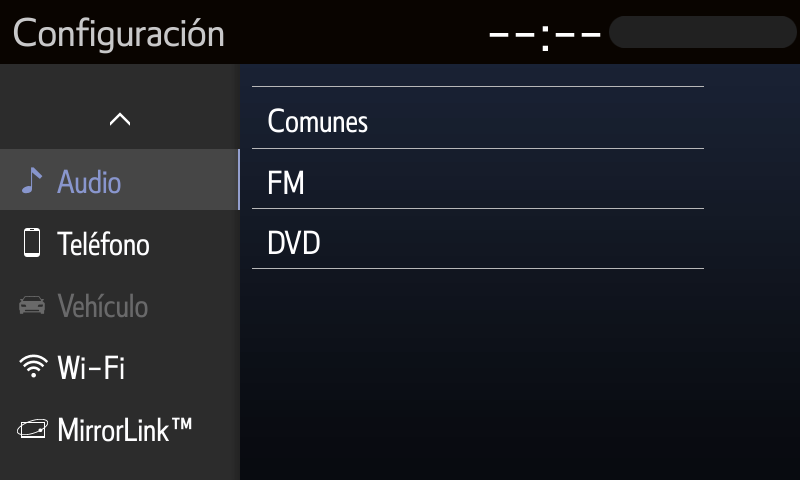touchPart: (250, 143, 710, 216), (249, 83, 709, 155), (250, 205, 712, 273), (14, 410, 200, 455), (16, 344, 140, 391), (20, 223, 152, 265), (101, 106, 138, 134)
untouchPart: (1, 145, 240, 214), (476, 15, 800, 54), (11, 8, 228, 60), (18, 286, 154, 327)
